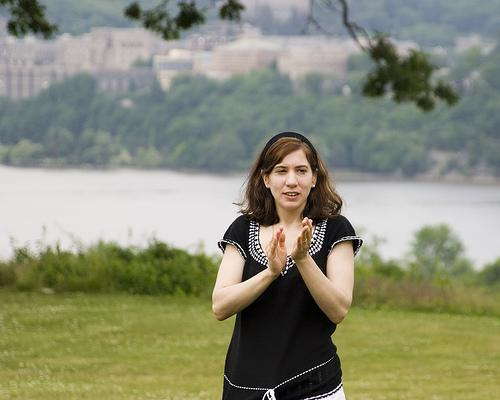person: (206, 129, 371, 400)
